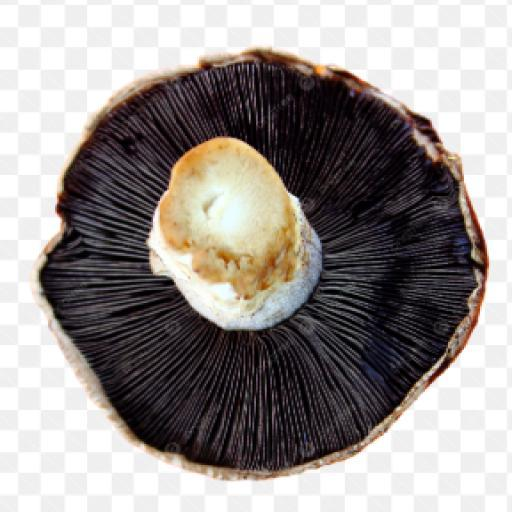mushroom: (32, 44, 489, 485)
